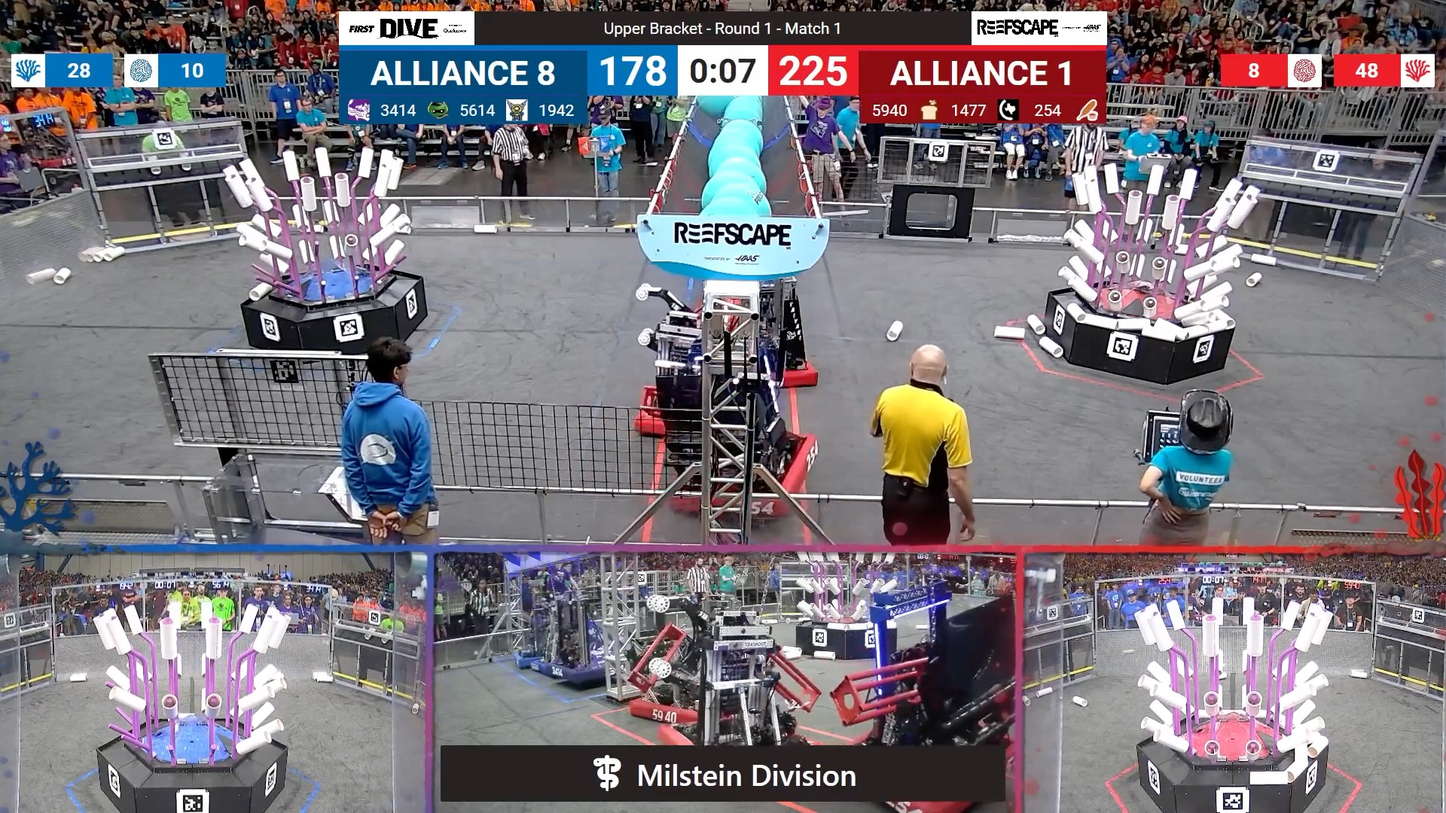bumpers: (649, 424, 822, 521), (517, 656, 634, 685), (624, 696, 703, 723), (769, 356, 826, 392), (512, 653, 560, 671)
